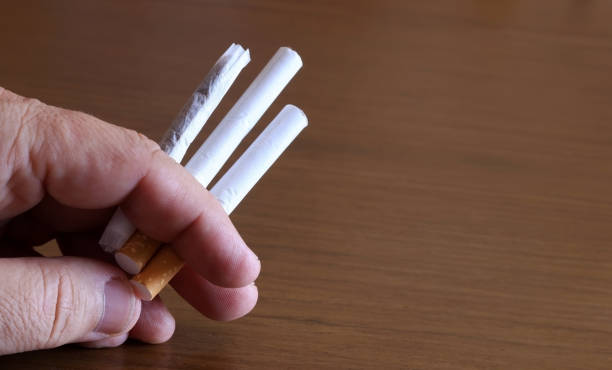cigarette: (116, 45, 305, 274), (130, 103, 309, 302), (98, 37, 252, 256)
